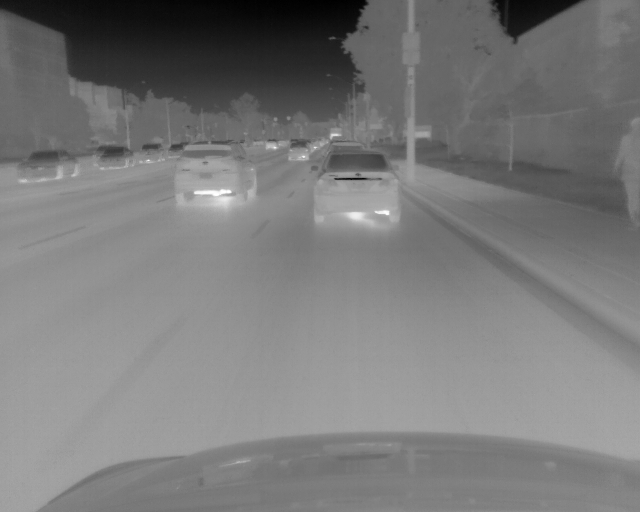car: (311, 151, 403, 225), (174, 139, 258, 210), (14, 148, 79, 183), (98, 147, 133, 170), (138, 143, 164, 164), (325, 141, 367, 154), (287, 140, 308, 161), (168, 142, 185, 157), (310, 139, 323, 151), (264, 139, 277, 150)
people: (613, 116, 640, 230)
